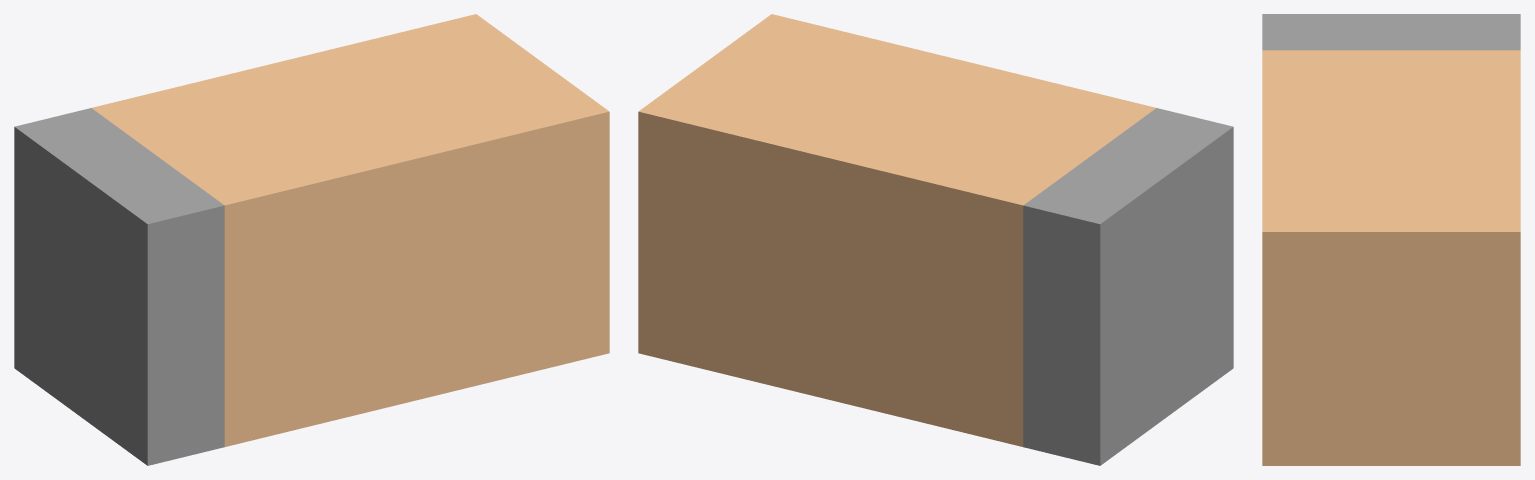
File: ARM_BOTTOM.obj
The picture shows the model from 3 angles, left to right: view 1: azimuth 30°, elevation 25°; view 2: azimuth 150°, elevation 25°; view 3: azimuth 270°, elevation 25°; orthographic projection. The views are drawn at different scales.
Size of the model in its own units: 0.6 by 0.3 by 0.3.
1 material, 1 textured.
